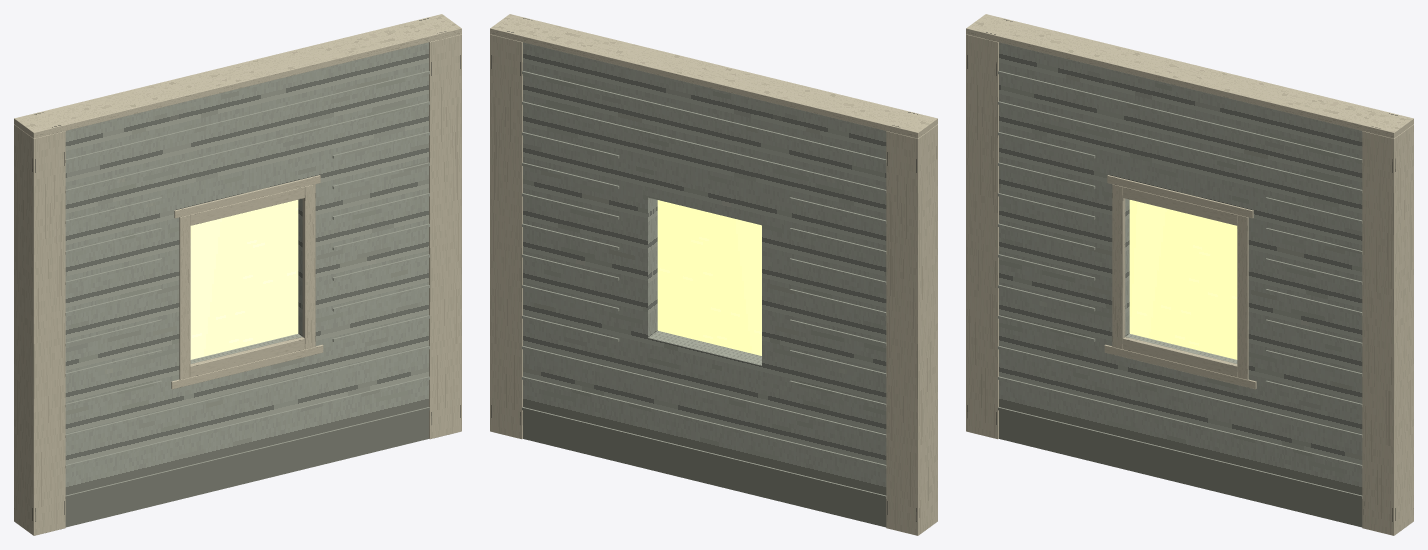
Rendered from house_wall_window.glb.
The picture shows the model from 3 angles, left to right: view 1: azimuth 30°, elevation 25°; view 2: azimuth 150°, elevation 25°; view 3: azimuth 330°, elevation 25°; orthographic projection.
Visible parts, largest first — view 1: house_wall_window; view 2: house_wall_window; view 3: house_wall_window.
Part boxes in pixels (bbox=[...]): house_wall_window: bbox=[14, 14, 461, 535]; house_wall_window: bbox=[490, 14, 937, 535]; house_wall_window: bbox=[966, 14, 1413, 535].
Size of the model in its own units: 3 by 2.7 by 0.24.
Materials: 3 (3 with a texture image).
